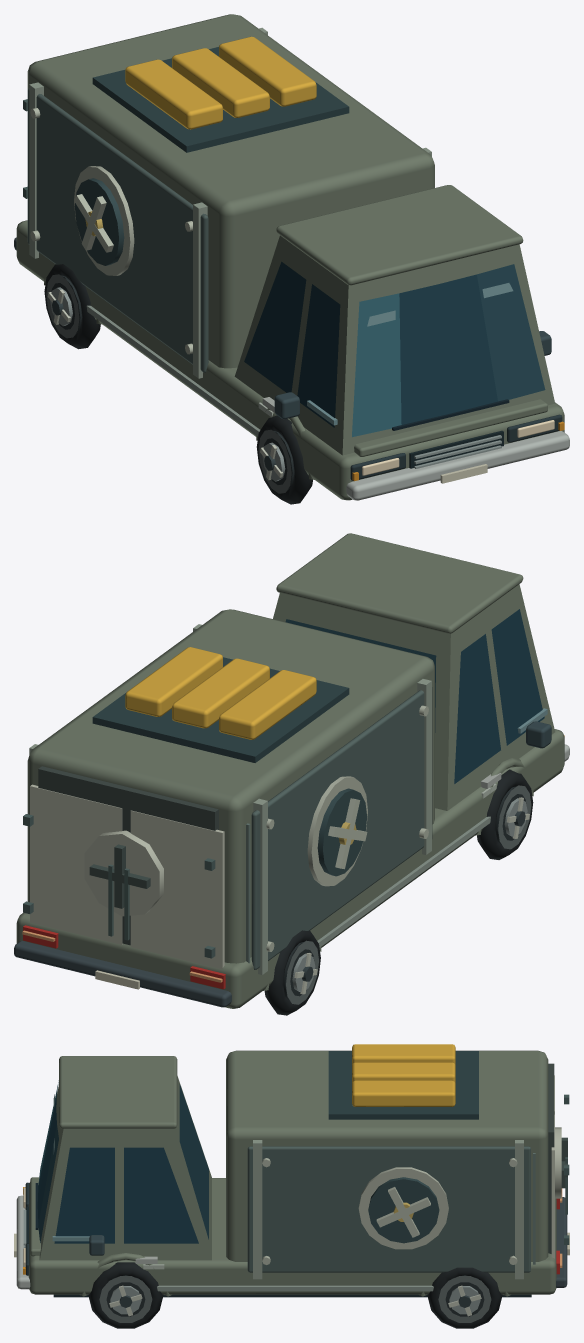
File: bank.glb
3 renders of one model, top to bottom at view 1: azimuth 30°, elevation 25°; view 2: azimuth 150°, elevation 25°; view 3: azimuth 270°, elevation 25°, orthographic. The views are drawn at different scales.
Visible parts, largest first — view 1: bank_body; view 2: bank_body; view 3: bank_body.
Boxes of the visible parts, bbox=[...] form: bank_body: bbox=[14, 14, 569, 504]; bank_body: bbox=[14, 533, 569, 1015]; bank_body: bbox=[14, 1044, 569, 1328].
Bounding box in the file's own units: 2.6 × 2.51 × 5.8.
